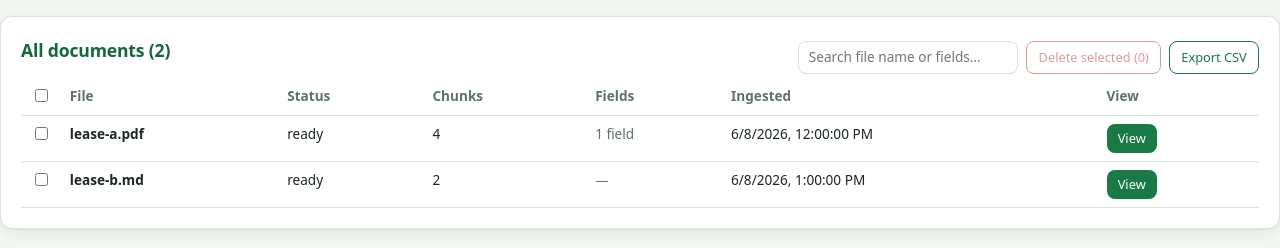
Test: filters rows by the search query (file name or fields)
Type "lease-b" into the search field named "search documents".
click(908, 58); type("lease-b")  # box [798,41,1018,74]
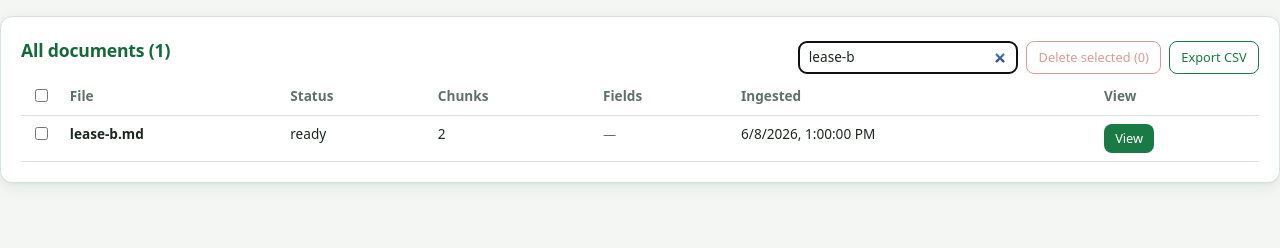
Check: the text "lease-b.md" is shown, box [60,116,281,162]
Check: the text "lease-a.pdf" is gone
